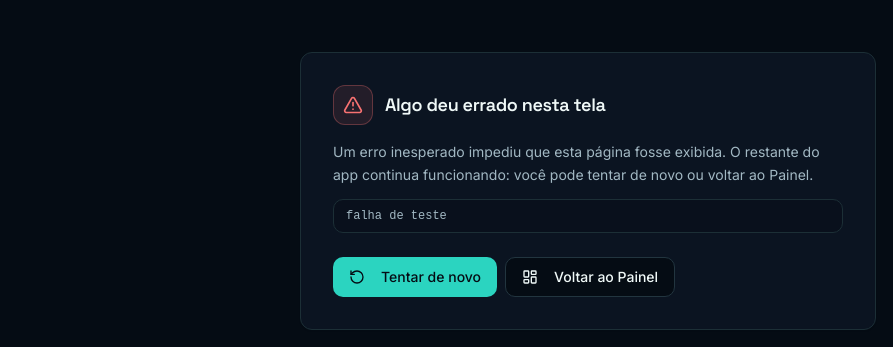
it: ErrorBoundary › 'Tentar de novo' re-renderiza os filhos
Click the button "Tentar de novo". click: (415, 276)
box: [333,256,497,296]
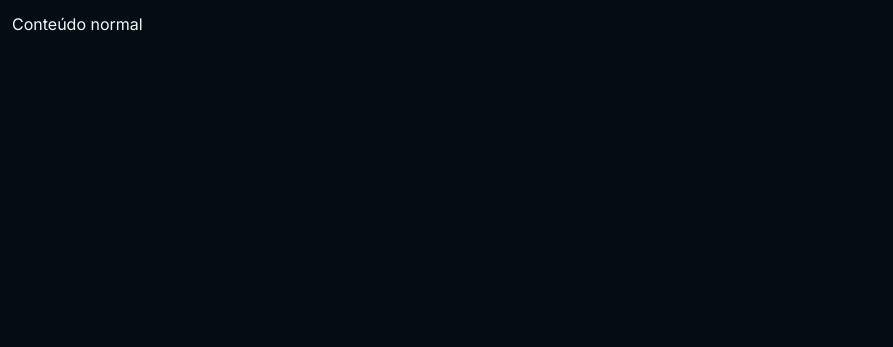
Expected: the text "Conteúdo normal" is shown, [12,14,143,34]
